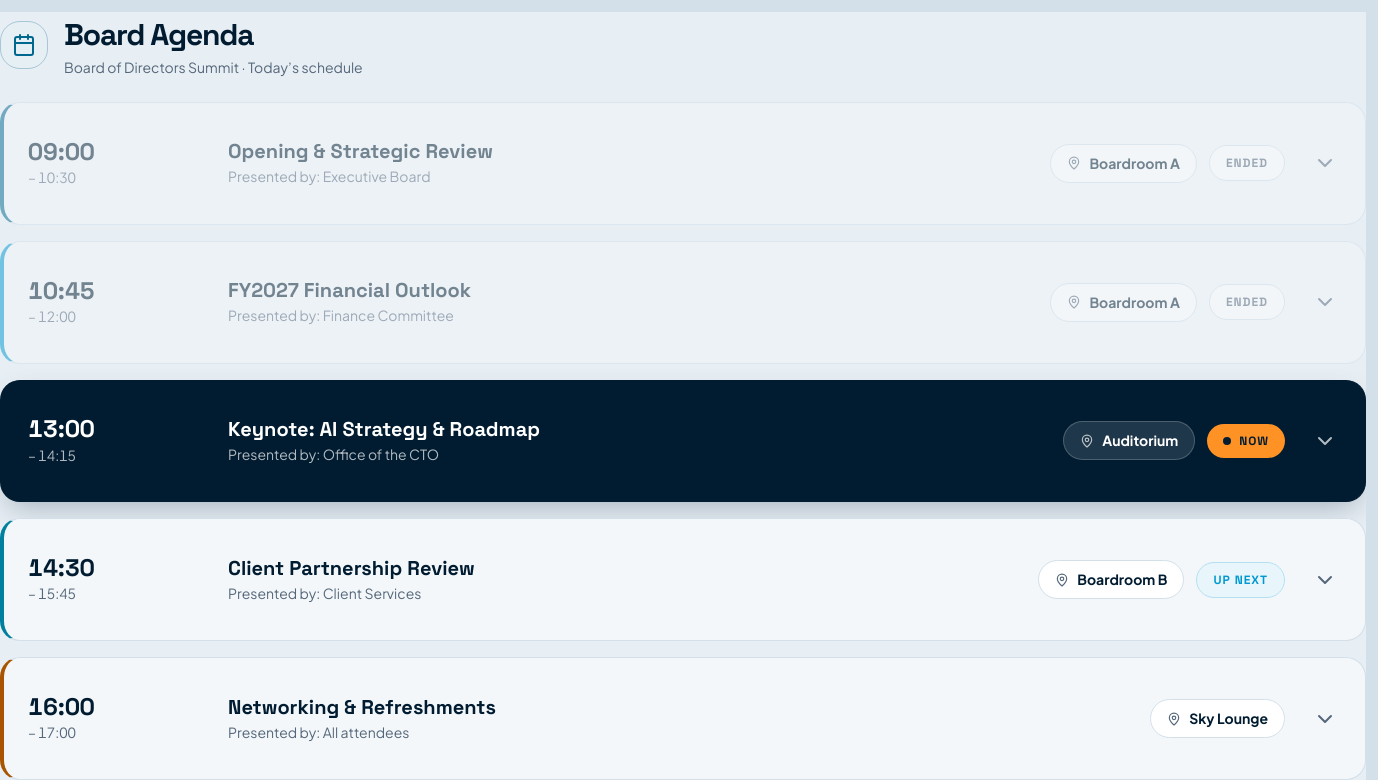
it: BoardAgenda rows › keeps only one session open at a time
The width and height of the screenshot is (1378, 780).
Click the button "Keynote: AI Strategy & Roadmap" at (684, 441), box [4,381,1365,501]
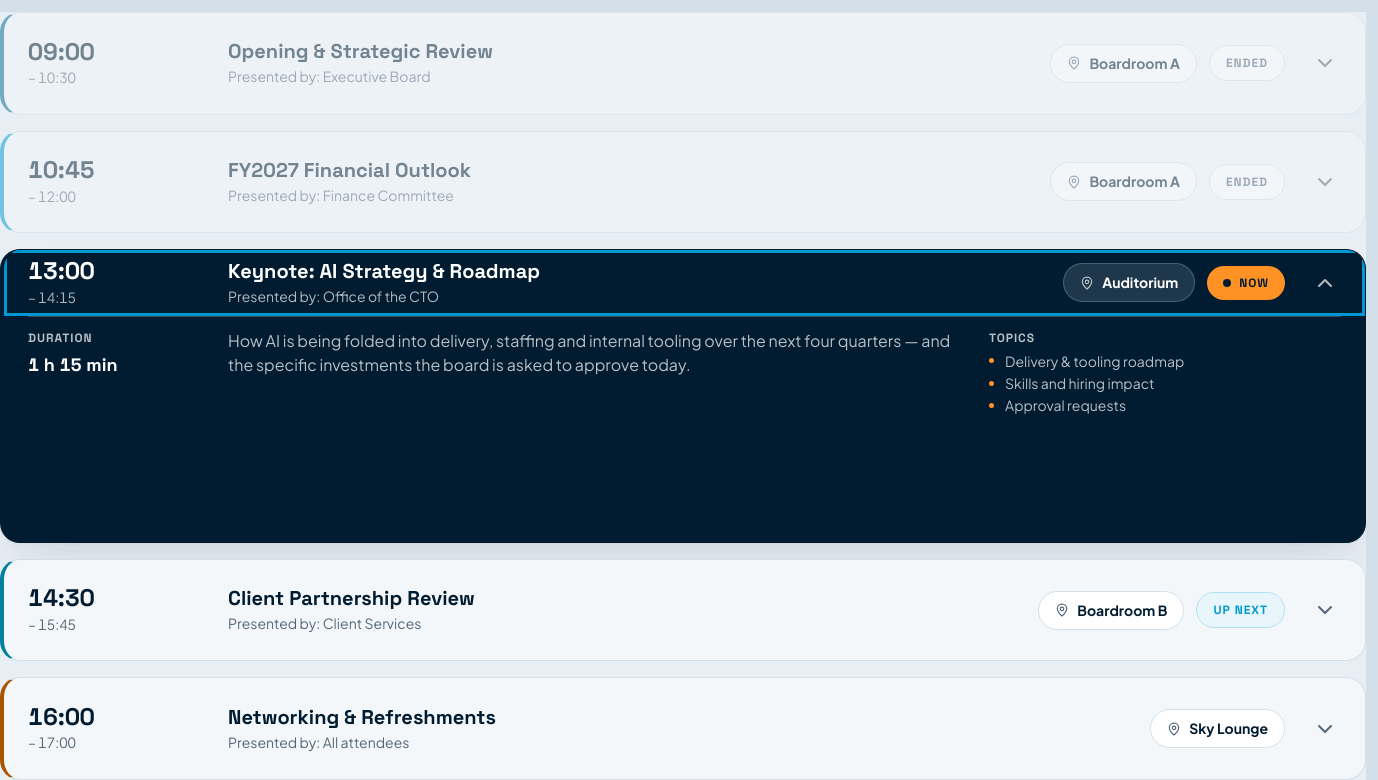
Click the button "Opening & Strategic Review" at (61, 51), box [4,13,1365,114]
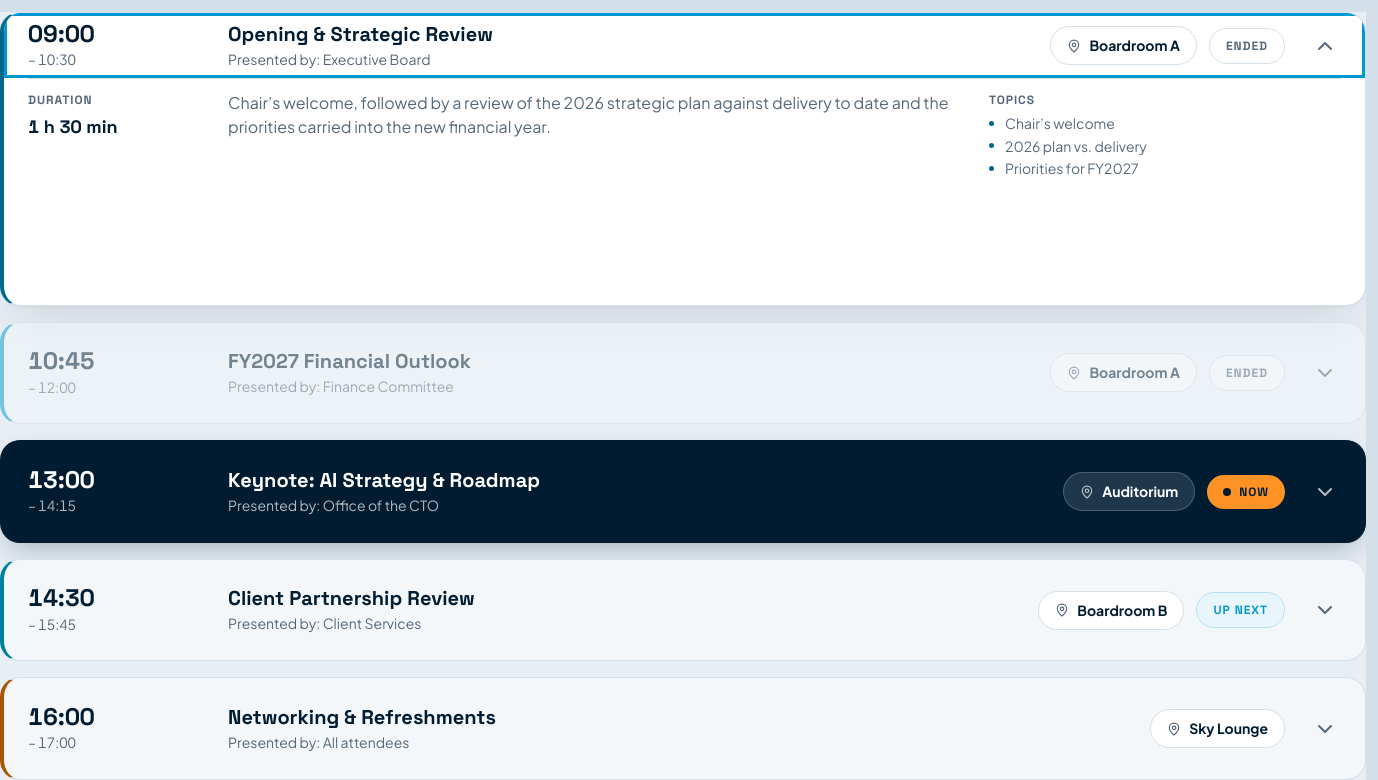
Expected: the button "Opening & Strategic Review" is expanded, [4,13,1365,78]
Expected: the button "Keynote: AI Strategy & Roadmap" is collapsed, [4,441,1365,542]
